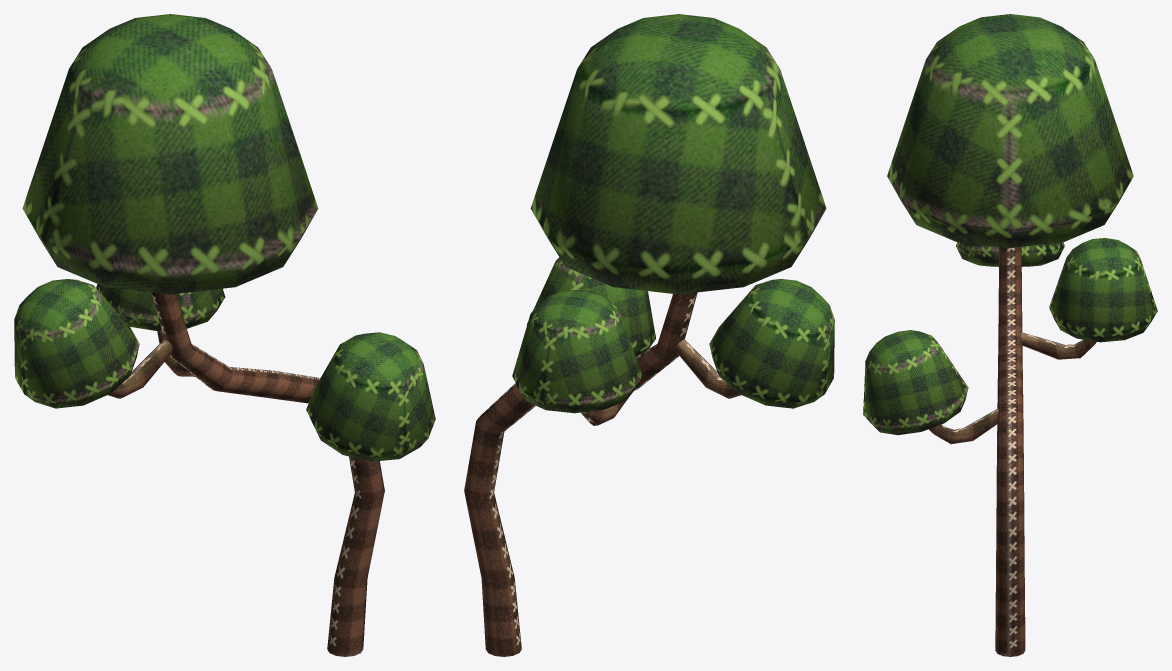
File: lpb_cs_tree1.fbx
3 views of the same model, side by side, from view 1: azimuth 30°, elevation 25°; view 2: azimuth 150°, elevation 25°; view 3: azimuth 270°, elevation 25° (orthographic). The views are drawn at different scales.
Visible parts, largest first — view 1: lpb_cs_tree1; view 2: lpb_cs_tree1; view 3: lpb_cs_tree1.
Boxes of the visible parts, x1=… form: lpb_cs_tree1: x1=14, y1=14, x2=435, y2=656; lpb_cs_tree1: x1=464, y1=14, x2=834, y2=656; lpb_cs_tree1: x1=863, y1=14, x2=1157, y2=656.
Bounding box in the file's own units: 119 × 207 × 101.
